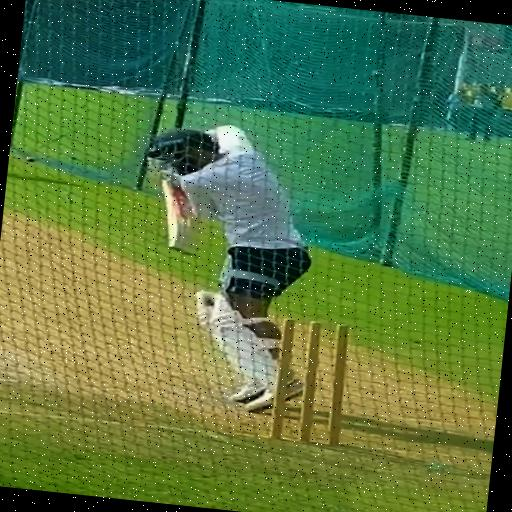Cricket bat: (161, 180, 196, 252)
